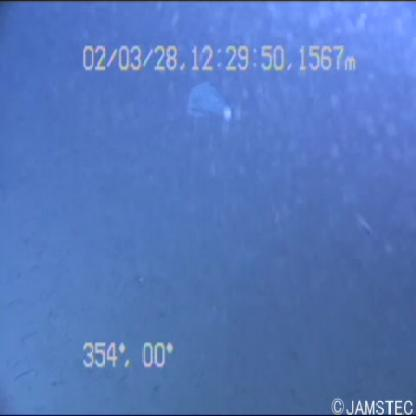Rác: (178, 78, 249, 139)
